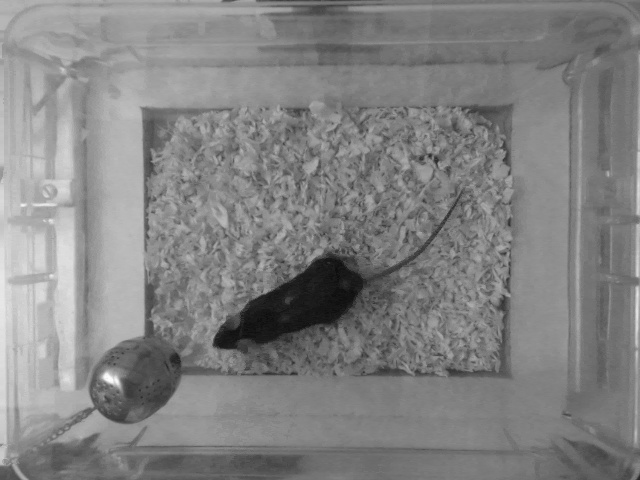mice: (210, 186, 477, 354)
